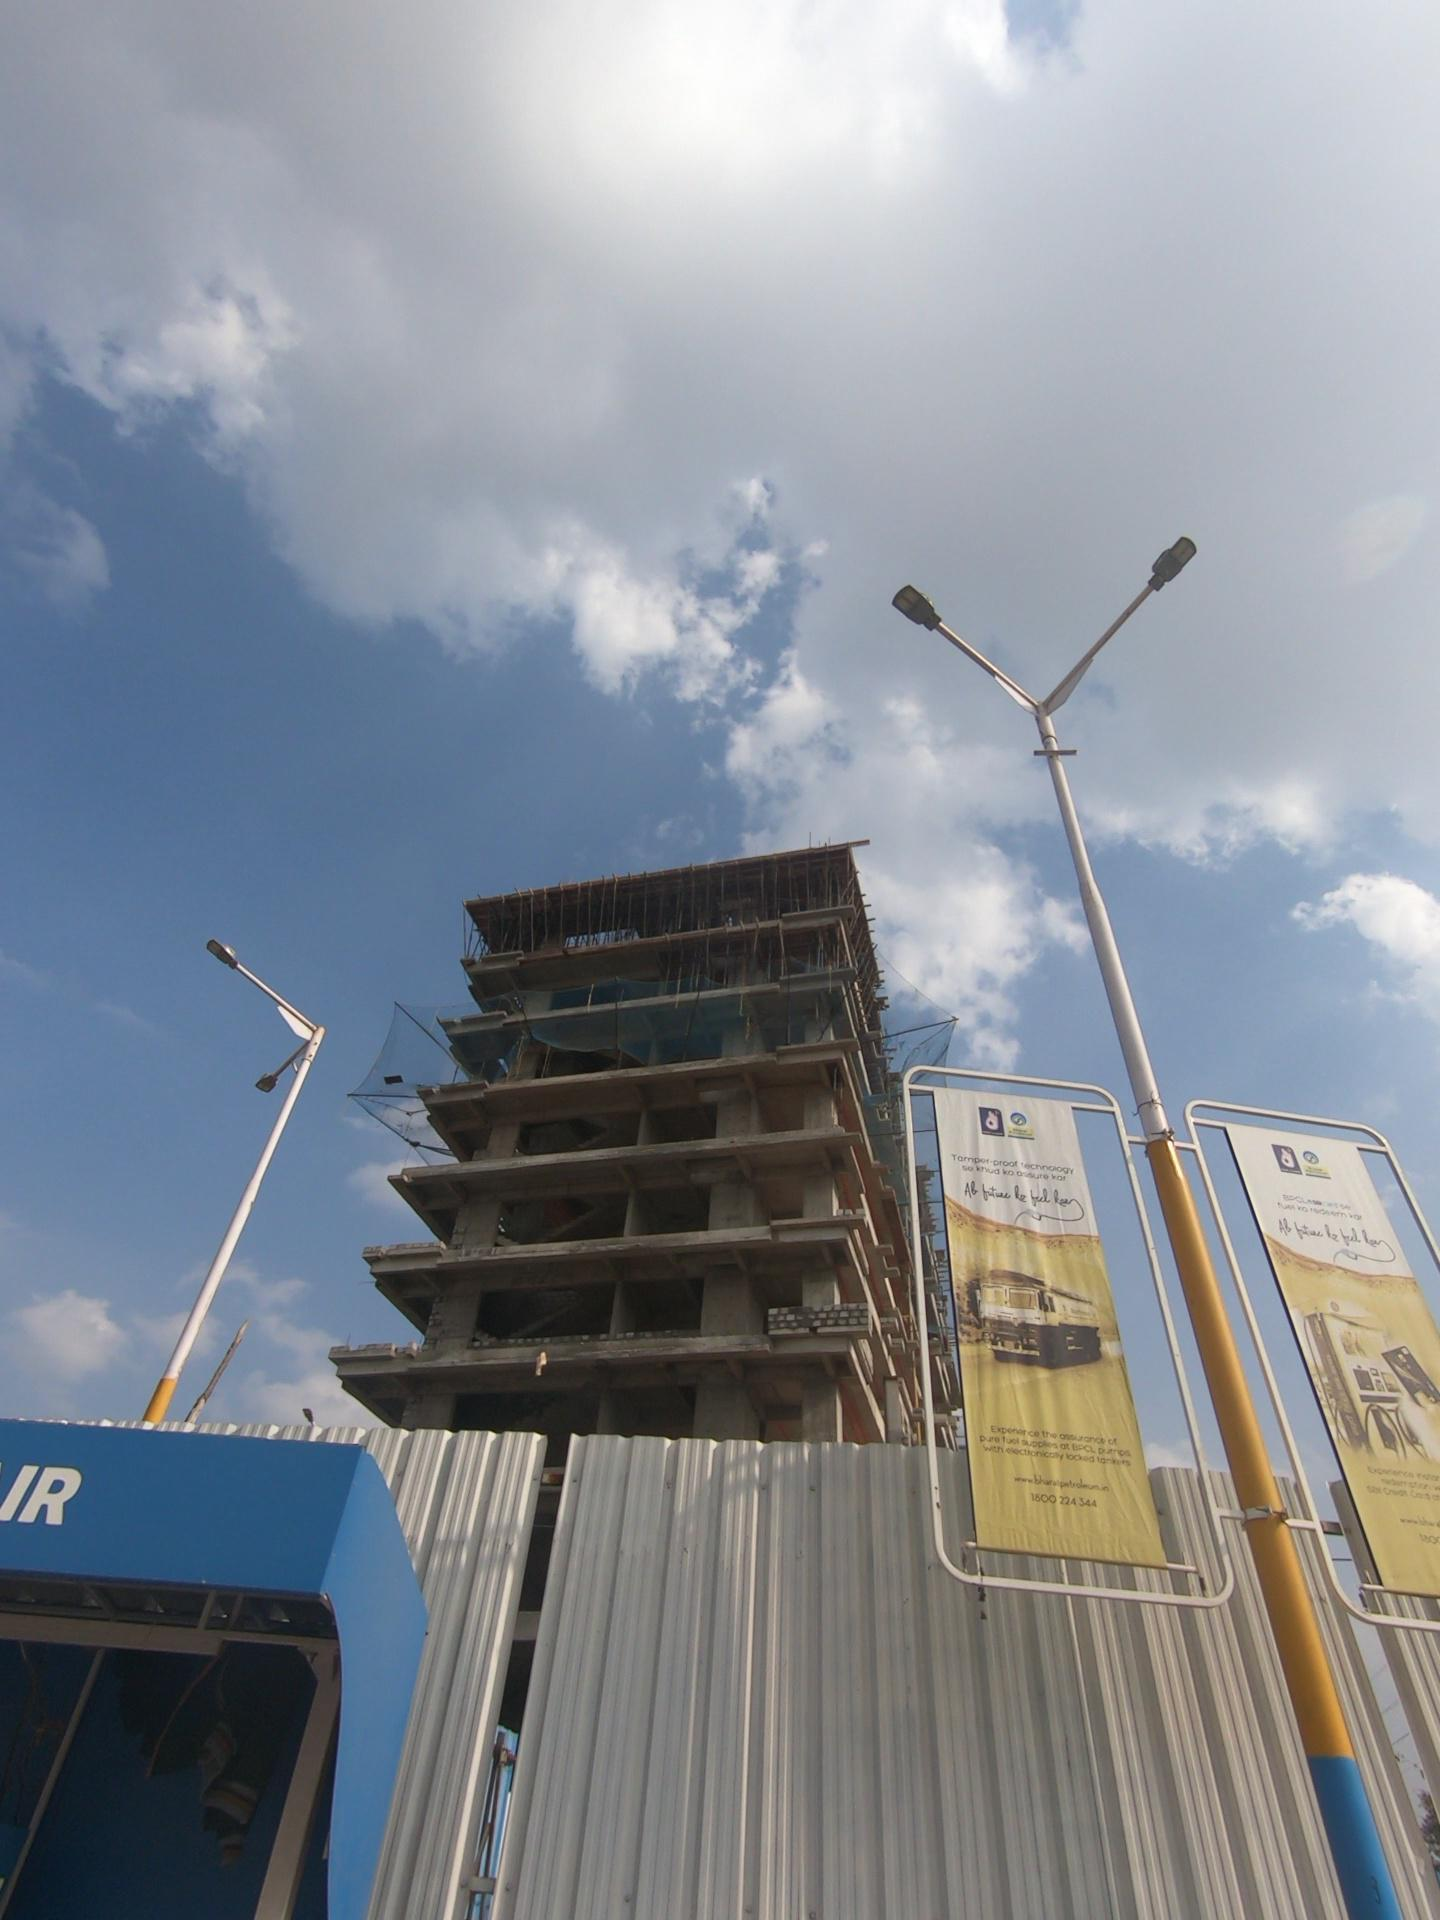off: (820, 491, 1283, 744), (130, 897, 384, 1152)
